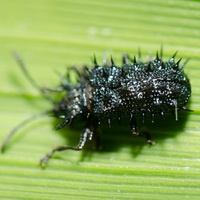insect: (0, 52, 190, 167)
